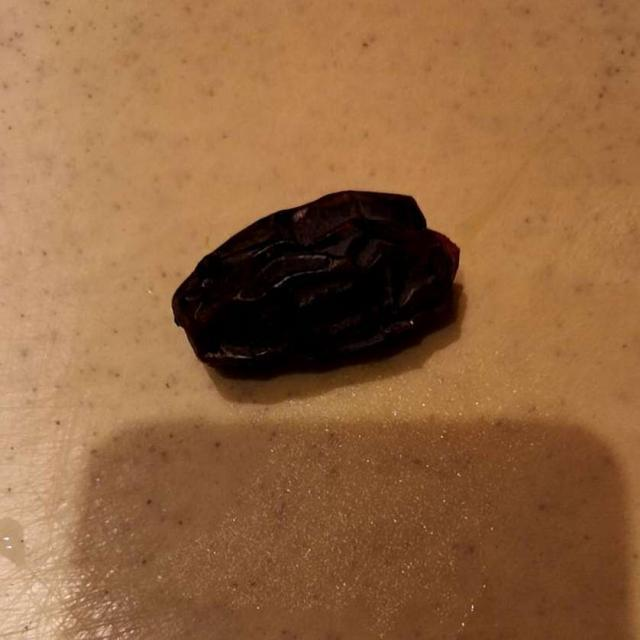dates: (172, 192, 446, 377)
